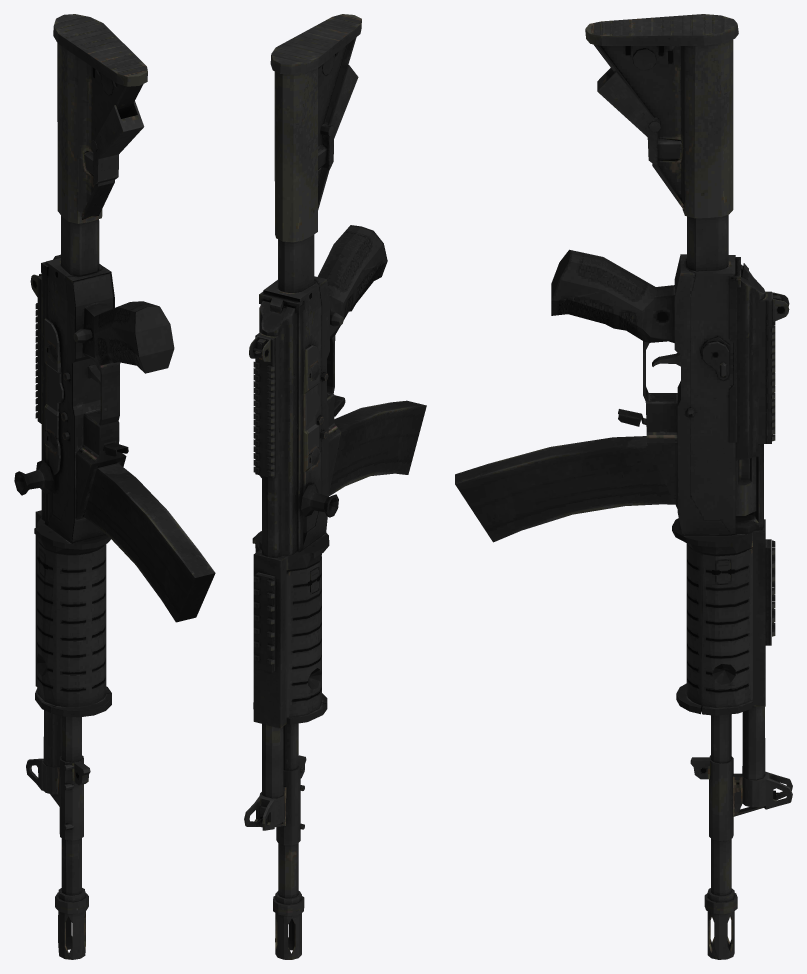
The model's file is w_rif_galilar.obj.
3 renders of one model, left to right at view 1: azimuth 30°, elevation 25°; view 2: azimuth 150°, elevation 25°; view 3: azimuth 270°, elevation 25°, orthographic. The views are drawn at different scales.
Size of the model in its own units: 0.0305 by 0.3315 by 0.1091.
Materials: 1 (1 with a texture image).
